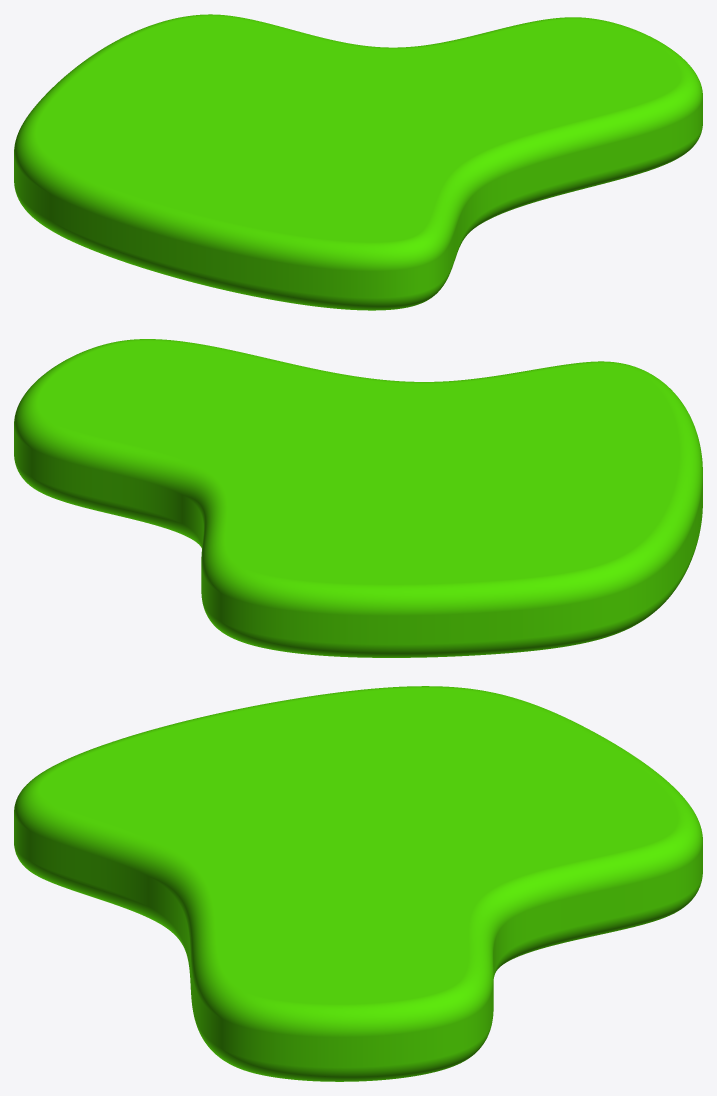
Rendered from POISON 2.fbx.
3 renders of one model, top to bottom at view 1: azimuth 30°, elevation 25°; view 2: azimuth 150°, elevation 25°; view 3: azimuth 270°, elevation 25°, orthographic. The views are drawn at different scales.
Visible parts, largest first — view 1: nÆ°á»c 2; view 2: nÆ°á»c 2; view 3: nÆ°á»c 2.
Part boxes in pixels (x1=…): nÆ°á»c 2: x1=14, y1=14, x2=702, y2=310; nÆ°á»c 2: x1=14, y1=339, x2=702, y2=657; nÆ°á»c 2: x1=14, y1=686, x2=702, y2=1081.
Size of the model in its own units: 96.01 by 10 by 82.99.
